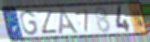4: (115, 4, 132, 34)
7: (76, 9, 90, 33)
8: (94, 5, 112, 34)
A: (58, 8, 81, 36)
G: (19, 10, 39, 37)
Z: (35, 10, 59, 35)
